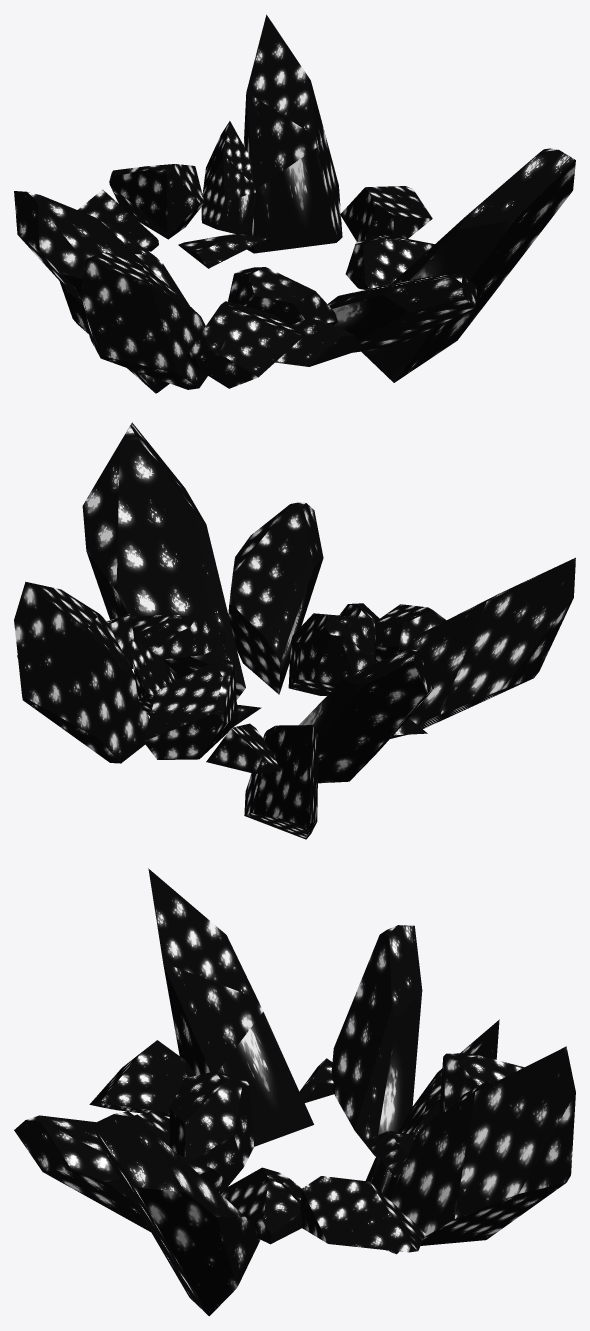
File: 0015_DICI_Box001_v_039.glb
3 views of the same model, one above another, from view 1: azimuth 30°, elevation 25°; view 2: azimuth 150°, elevation 25°; view 3: azimuth 270°, elevation 25° (orthographic). The views are drawn at different scales.
Size of the model in its own units: 2.2 by 1.18 by 1.95.
1 material, 1 textured.
